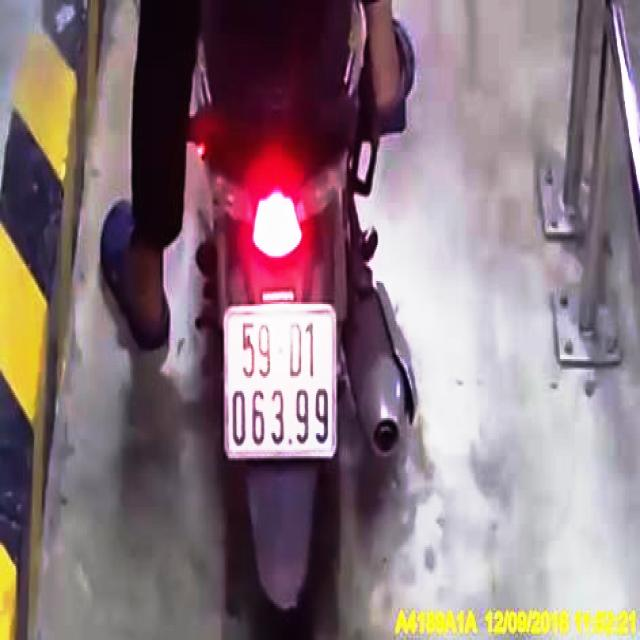license_plate: (228, 311, 335, 456)
